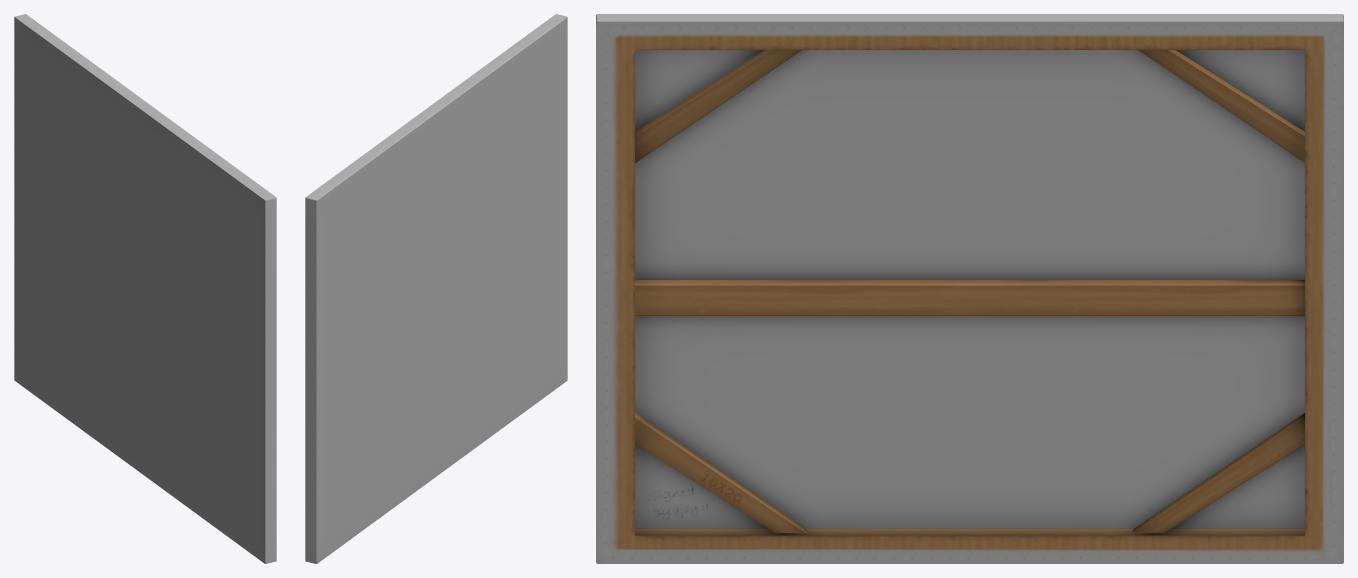
The picture shows the model from 3 angles, left to right: view 1: azimuth 30°, elevation 25°; view 2: azimuth 150°, elevation 25°; view 3: azimuth 270°, elevation 25°; orthographic projection. The views are drawn at different scales.
Parts seen in each view (by area): view 1: SM_Painting02; view 2: SM_Painting02; view 3: SM_Painting02.
Part boxes in pixels (x1,y1,x2,y2): SM_Painting02: (14,14,276,563); SM_Painting02: (305,14,567,563); SM_Painting02: (596,14,1343,563).
Size of the model in its own units: 3.73 by 112 by 139.
1 material, 1 textured.
